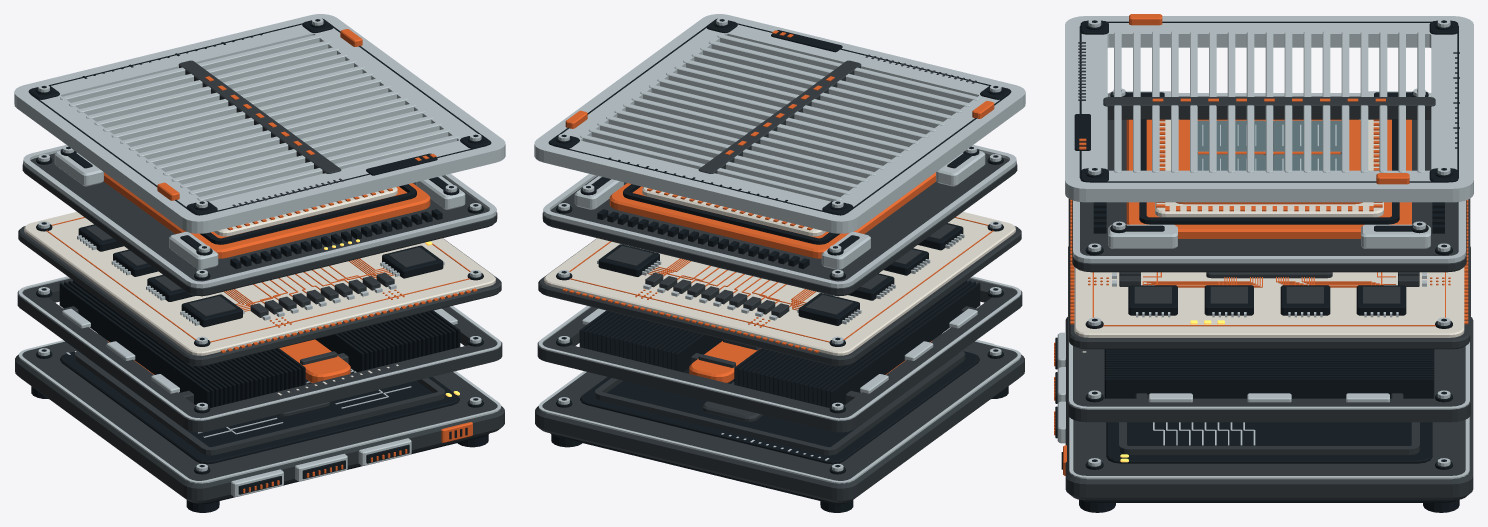
File: compute-stack.glb
3 renders of one model, left to right at view 1: azimuth 30°, elevation 25°; view 2: azimuth 150°, elevation 25°; view 3: azimuth 270°, elevation 25°, orthographic. The views are drawn at different scales.
Parts seen in each view (by area): view 1: Layer4_silver, Layer0_graphite, Layer2_ivory, Layer1_dark, Layer1_graphite, Layer3_graphite, Layer0_dark, Layer2_graphite, Layer3_silver, Layer0_silver, Layer3_dark, Layer3_copper (+10 smaller); view 2: Layer4_silver, Layer0_graphite, Layer2_ivory, Layer1_dark, Layer1_graphite, Layer3_graphite, Layer0_dark, Layer2_graphite, Layer3_silver, Layer3_dark, Layer3_copper, Layer1_silver (+9 smaller); view 3: Layer4_silver, Layer0_graphite, Layer2_ivory, Layer1_dark, Layer0_dark, Layer3_graphite, Layer1_graphite, Layer2_graphite, Layer3_copper, Layer3_silver, Layer4_graphite, Layer3_dark (+9 smaller).
Part boxes in pixels (x1=…): Layer4_silver: x1=14, y1=14, x2=505, y2=233; Layer0_graphite: x1=15, y1=334, x2=504, y2=503; Layer2_ivory: x1=24, y1=212, x2=495, y2=355; Layer1_dark: x1=36, y1=280, x2=483, y2=413; Layer1_graphite: x1=17, y1=278, x2=502, y2=432; Layer3_graphite: x1=22, y1=153, x2=497, y2=296; Layer0_dark: x1=31, y1=349, x2=489, y2=512; Layer2_graphite: x1=18, y1=225, x2=501, y2=366; Layer3_silver: x1=23, y1=145, x2=496, y2=288; Layer0_silver: x1=18, y1=332, x2=501, y2=496; Layer3_dark: x1=36, y1=146, x2=483, y2=280; Layer3_copper: x1=103, y1=172, x2=430, y2=258; Layer4_silver: x1=534, y1=14, x2=1025, y2=233; Layer0_graphite: x1=535, y1=334, x2=1024, y2=503; Layer2_ivory: x1=544, y1=212, x2=1015, y2=355; Layer1_dark: x1=556, y1=280, x2=1003, y2=413; Layer1_graphite: x1=537, y1=278, x2=1022, y2=432; Layer3_graphite: x1=542, y1=153, x2=1017, y2=296; Layer0_dark: x1=550, y1=349, x2=1008, y2=512; Layer2_graphite: x1=538, y1=224, x2=1021, y2=366; Layer3_silver: x1=543, y1=145, x2=1016, y2=288; Layer3_dark: x1=556, y1=146, x2=1003, y2=280; Layer3_copper: x1=609, y1=172, x2=936, y2=258; Layer1_silver: x1=538, y1=276, x2=1021, y2=420; Layer4_silver: x1=1065, y1=16, x2=1473, y2=202; Layer0_graphite: x1=1065, y1=317, x2=1473, y2=500; Layer2_ivory: x1=1074, y1=267, x2=1464, y2=337; Layer1_dark: x1=1085, y1=349, x2=1452, y2=402; Layer0_dark: x1=1055, y1=337, x2=1459, y2=512; Layer3_graphite: x1=1072, y1=119, x2=1466, y2=272; Layer1_graphite: x1=1068, y1=246, x2=1470, y2=422; Layer2_graphite: x1=1068, y1=199, x2=1470, y2=349; Layer3_copper: x1=1126, y1=119, x2=1411, y2=238; Layer3_silver: x1=1073, y1=88, x2=1465, y2=263; Layer4_graphite: x1=1078, y1=42, x2=1435, y2=119; Layer3_dark: x1=1085, y1=90, x2=1452, y2=255.
Bounding box in the file's own units: 6.02 × 5.47 × 6.18.
